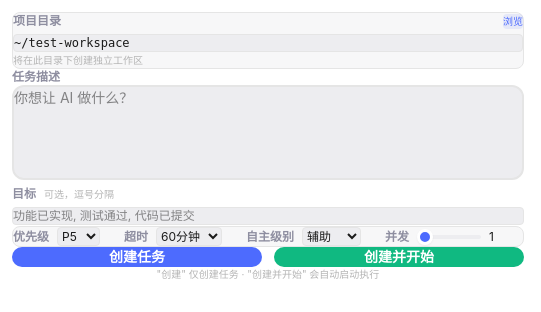
Test: QuickCreate › should show validation error for empty content
This screenshot has width=541, height=312.
Click the button "创建任务".
click(137, 257)  # box [12,247,262,267]
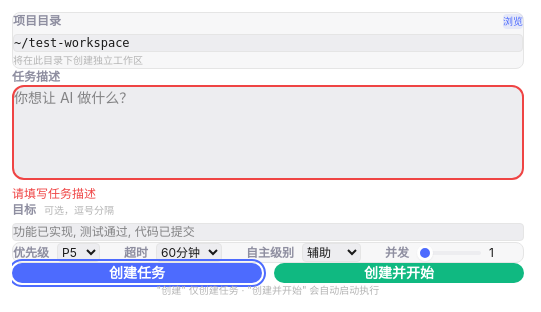
Result: the text "请填写任务描述" is shown at [12,186,96,201]
